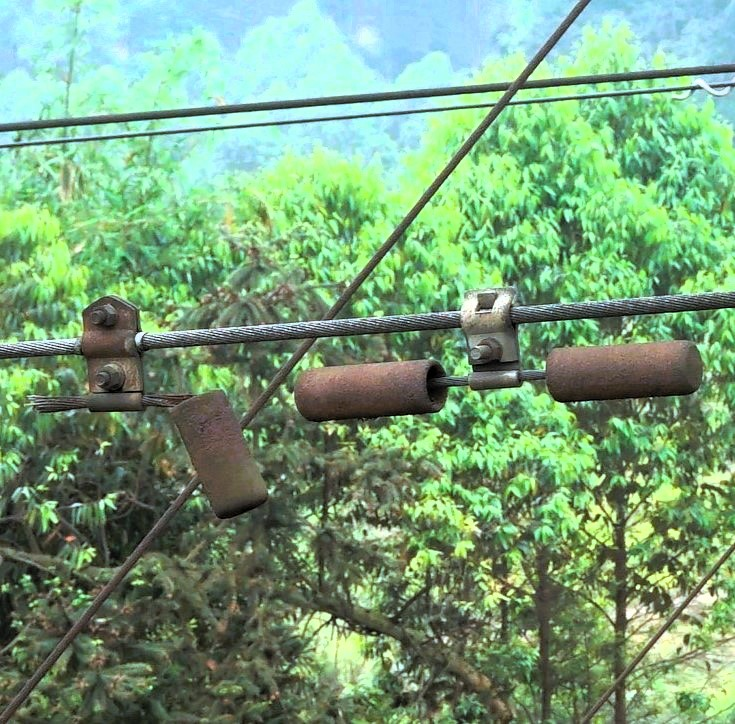Damage of shockproof hammer: (16, 292, 279, 523)
